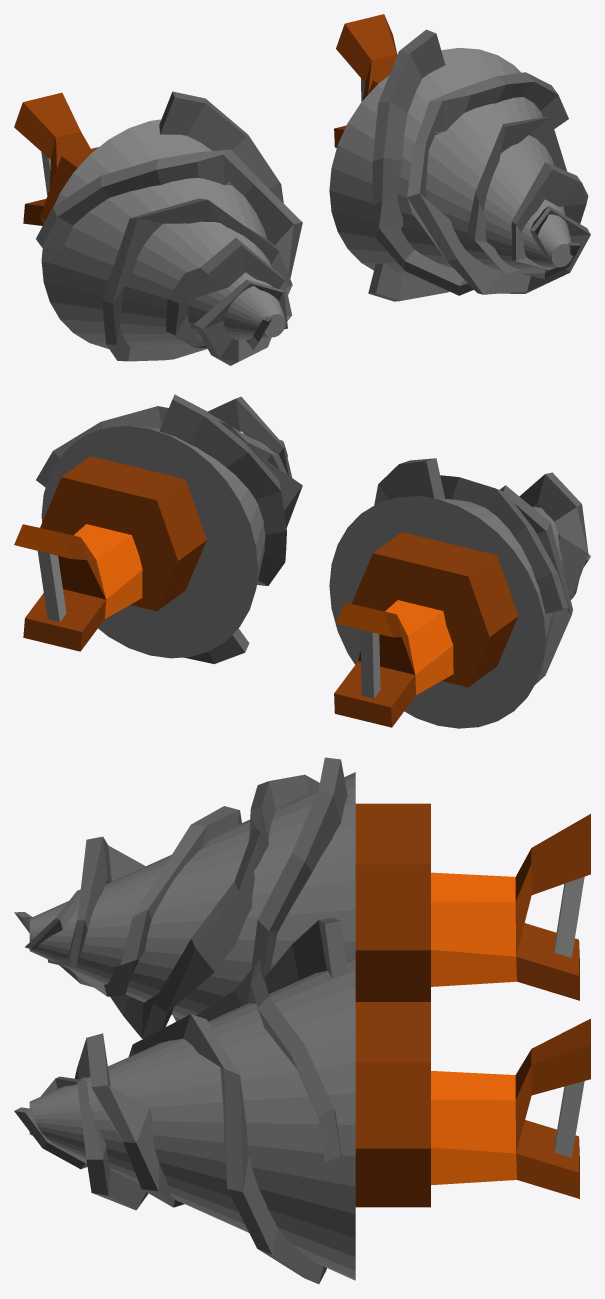
Rendered from Drills.fbx.
3 views of the same model, one above another, from view 1: azimuth 30°, elevation 25°; view 2: azimuth 150°, elevation 25°; view 3: azimuth 270°, elevation 25° (orthographic). The views are drawn at different scales.
Visible parts, largest first — view 1: Drills; view 2: Drills; view 3: Drills.
Boxes of the visible parts, box(x1,y1,x2,y2) form: Drills: box(14, 14, 590, 365); Drills: box(14, 394, 590, 728); Drills: box(14, 757, 590, 1284).
Size of the model in its own units: 124 by 58.55 by 89.78.
